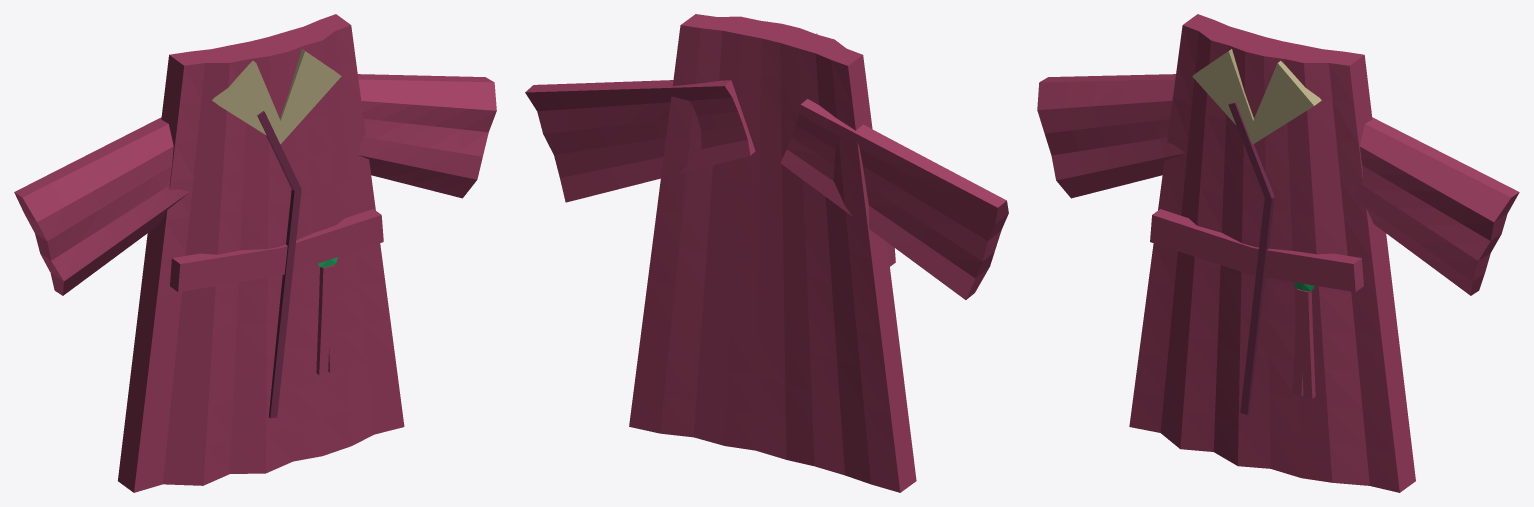
File: split_green.obj
3 renders of one model, left to right at view 1: azimuth 30°, elevation 25°; view 2: azimuth 150°, elevation 25°; view 3: azimuth 330°, elevation 25°, orthographic.
Visible parts, largest first — view 1: legacy_robe, legacy_sleeve_-1_legacy_sleeve, legacy_sleeve_1_legacy_sleeve, legacy_robe_edge, legacy_belt, legacy_collar, legacy_sleeve_-1_legacy_sleeve_edge, legacy_overlap, legacy_belt_edge, legacy_charm_strand_00, legacy_overlap_edge, legacy_charm_strand_01 (+2 smaller); view 2: legacy_robe_back, legacy_sleeve_1_legacy_sleeve_back, legacy_sleeve_-1_legacy_sleeve_back, legacy_robe_edge, legacy_sleeve_-1_legacy_sleeve_edge, legacy_sleeve_1_legacy_sleeve_edge; view 3: legacy_robe, legacy_sleeve_1_legacy_sleeve, legacy_sleeve_-1_legacy_sleeve, legacy_robe_edge, legacy_belt, legacy_collar, legacy_sleeve_1_legacy_sleeve_edge, legacy_overlap, legacy_belt_edge, legacy_overlap_edge, legacy_charm_strand_00, legacy_charm_strand_01 (+2 smaller).
Part boxes in pixels (bbox=[...]): legacy_robe: bbox=[134, 25, 404, 492]; legacy_sleeve_-1_legacy_sleeve: bbox=[22, 124, 189, 295]; legacy_sleeve_1_legacy_sleeve: bbox=[357, 79, 496, 198]; legacy_robe_edge: bbox=[118, 14, 350, 492]; legacy_belt: bbox=[178, 215, 383, 292]; legacy_collar: bbox=[220, 51, 341, 144]; legacy_sleeve_-1_legacy_sleeve_edge: bbox=[14, 117, 168, 295]; legacy_overlap: bbox=[258, 112, 301, 418]; legacy_belt_edge: bbox=[170, 209, 381, 291]; legacy_charm_strand_00: bbox=[319, 266, 331, 374]; legacy_overlap_edge: bbox=[257, 111, 294, 417]; legacy_charm_strand_01: bbox=[326, 265, 338, 372]; legacy_robe_back: bbox=[629, 25, 900, 492]; legacy_sleeve_1_legacy_sleeve_back: bbox=[525, 86, 750, 202]; legacy_sleeve_-1_legacy_sleeve_back: bbox=[780, 104, 997, 299]; legacy_robe_edge: bbox=[681, 14, 916, 492]; legacy_sleeve_-1_legacy_sleeve_edge: bbox=[801, 99, 1008, 299]; legacy_sleeve_1_legacy_sleeve_edge: bbox=[525, 80, 755, 155]; legacy_robe: bbox=[1129, 25, 1399, 492]; legacy_sleeve_1_legacy_sleeve: bbox=[1353, 124, 1511, 295]; legacy_sleeve_-1_legacy_sleeve: bbox=[1037, 79, 1184, 198]; legacy_robe_edge: bbox=[1183, 14, 1415, 492]; legacy_belt: bbox=[1150, 215, 1355, 291]; legacy_collar: bbox=[1192, 51, 1313, 144]; legacy_sleeve_1_legacy_sleeve_edge: bbox=[1365, 117, 1519, 295]; legacy_overlap: bbox=[1228, 103, 1271, 414]; legacy_belt_edge: bbox=[1152, 209, 1363, 291]; legacy_overlap_edge: bbox=[1229, 102, 1274, 414]; legacy_charm_strand_00: bbox=[1292, 289, 1305, 396]; legacy_charm_strand_01: bbox=[1299, 291, 1312, 398].
Bounding box in the file's own units: 2.32 × 1.95 × 0.2723.
